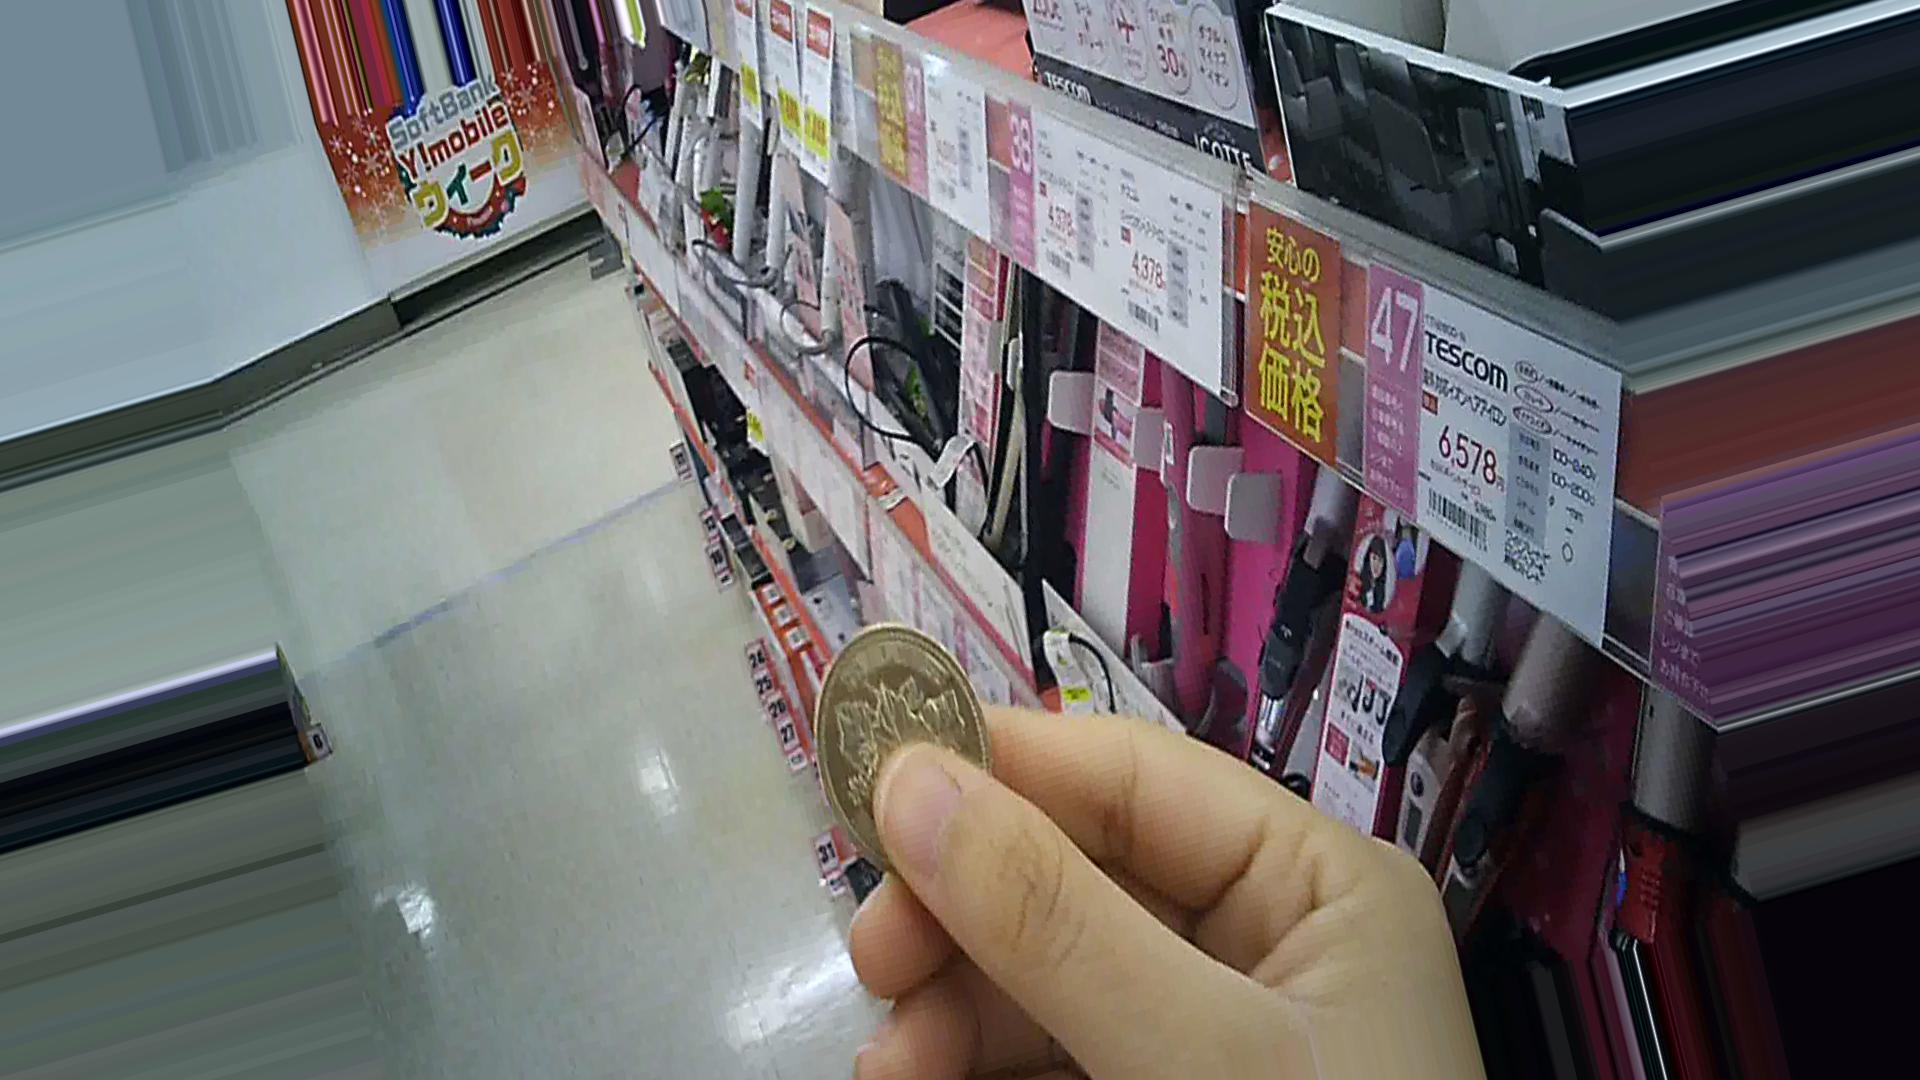500 Yen: (804, 615, 986, 865)
